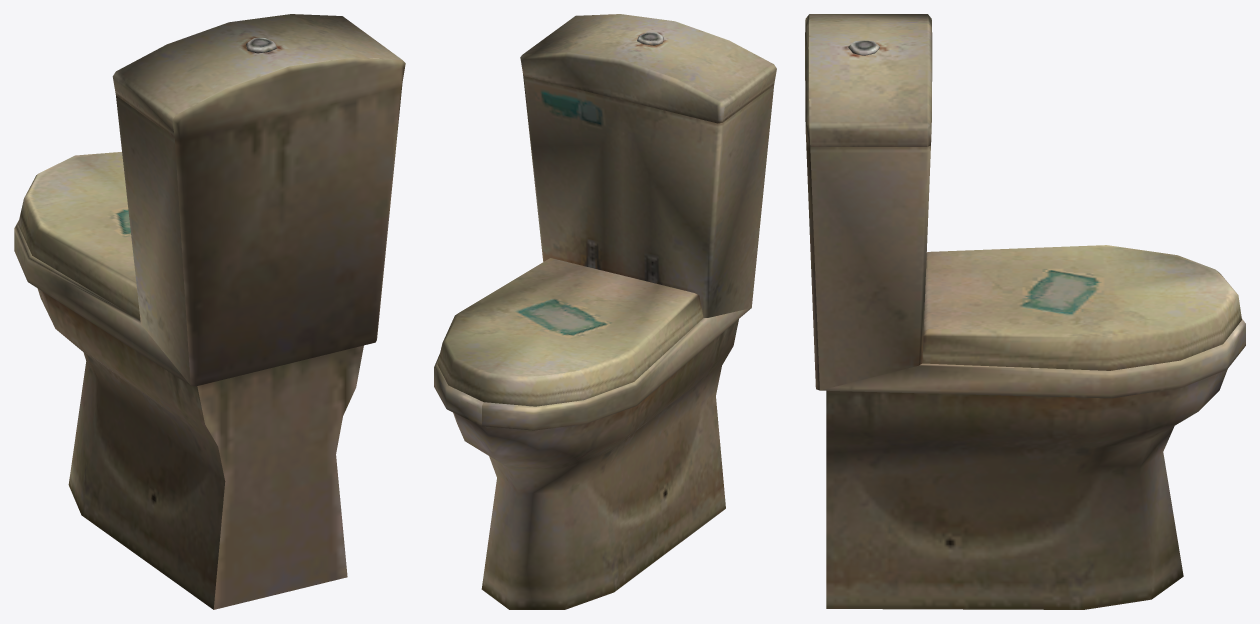
Rendered from Prop_Mt01.glb.
3 renders of one model, left to right at view 1: azimuth 30°, elevation 25°; view 2: azimuth 150°, elevation 25°; view 3: azimuth 270°, elevation 25°, orthographic. The views are drawn at different scales.
Visible parts, largest first — view 1: xiutz_mt_01; view 2: xiutz_mt_01; view 3: xiutz_mt_01.
Boxes of the visible parts, box(x1,y1,x2,y2) form: xiutz_mt_01: box(14, 14, 405, 609); xiutz_mt_01: box(434, 14, 776, 609); xiutz_mt_01: box(805, 14, 1245, 609).
Bounding box in the file's own units: 0.7967 × 1.75 × 1.32.
Materials: 1 (1 with a texture image).
